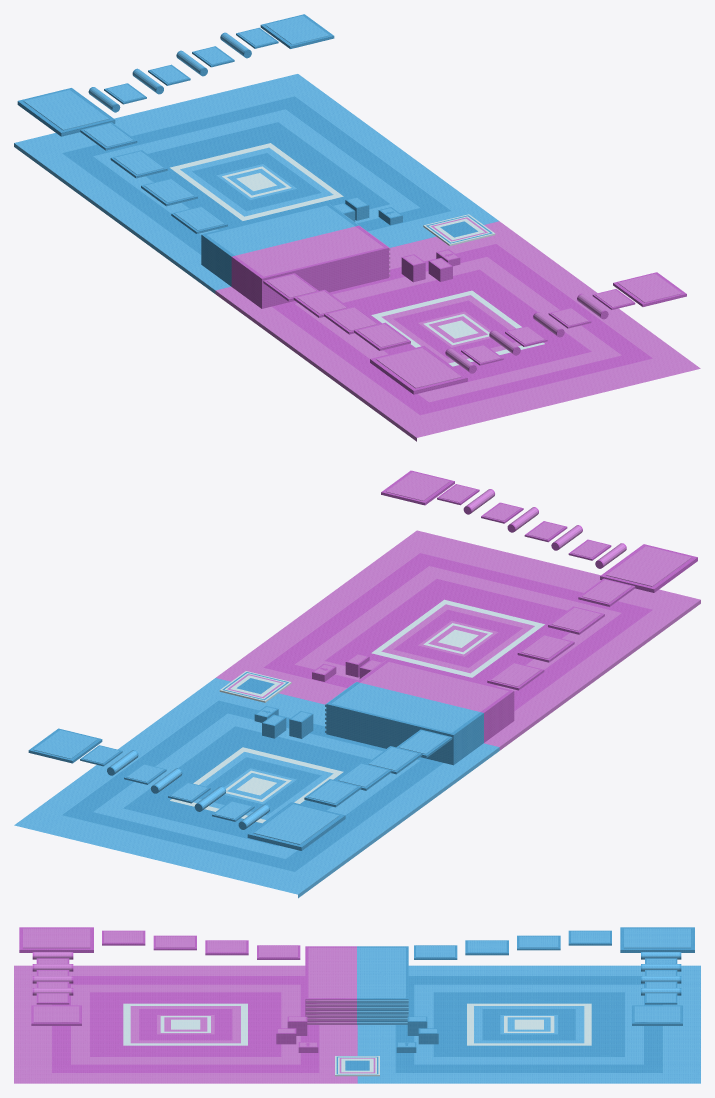
The model's file is Location_Ground.fbx.
3 views of the same model, one above another, from view 1: azimuth 30°, elevation 25°; view 2: azimuth 150°, elevation 25°; view 3: azimuth 270°, elevation 25° (orthographic). The views are drawn at different scales.
Parts seen in each view (by area): view 1: Cube.001, Cube.096, Cube.005, Cube.073, Cube.099, Cube.012, Cube.103, Cube.013, Cube.104, Cylinder, Cylinder.003, Cube.002 (+8 smaller); view 2: Cube.096, Cube.001, Cube.005, Cube.099, Cube.073, Cube.103, Cube.012, Cube.013, Cube.104, Cylinder, Cylinder.003, Cube.002 (+8 smaller); view 3: Cube.096, Cube.001, Cube.005, Cube.003, Cube.073, Cube.099, Cylinder.003, Cylinder, Cube.013, Cube.104, Cube.103, Cube.012 (+13 smaller).
Part boxes in pixels (bbox=[...]): Cube.001: bbox=[215, 221, 700, 441]; Cube.096: bbox=[14, 74, 498, 293]; Cube.005: bbox=[201, 203, 388, 308]; Cube.073: bbox=[370, 346, 467, 394]; Cube.099: bbox=[17, 88, 115, 136]; Cube.012: bbox=[104, 27, 278, 104]; Cube.103: bbox=[461, 289, 635, 365]; Cube.013: bbox=[260, 14, 334, 48]; Cube.104: bbox=[613, 272, 686, 306]; Cylinder: bbox=[88, 32, 251, 112]; Cylinder.003: bbox=[445, 293, 608, 373]; Cube.002: bbox=[423, 214, 495, 245]; Cube.096: bbox=[14, 678, 499, 898]; Cube.001: bbox=[216, 530, 700, 750]; Cube.005: bbox=[326, 660, 514, 765]; Cube.099: bbox=[247, 802, 345, 850]; Cube.073: bbox=[600, 544, 697, 592]; Cube.103: bbox=[437, 484, 611, 560]; Cube.012: bbox=[80, 745, 254, 821]; Cube.013: bbox=[28, 728, 102, 763]; Cube.104: bbox=[381, 470, 454, 505]; Cylinder: bbox=[107, 750, 269, 829]; Cylinder.003: bbox=[463, 489, 626, 568]; Cube.002: bbox=[219, 671, 291, 702]; Cube.096: bbox=[357, 965, 700, 1083]; Cube.001: bbox=[14, 965, 357, 1083]; Cube.005: bbox=[305, 946, 408, 1024]; Cube.003: bbox=[305, 1000, 408, 1024]; Cube.073: bbox=[19, 927, 93, 952]; Cube.099: bbox=[620, 927, 694, 952]; Cylinder.003: bbox=[32, 952, 73, 995]; Cylinder: bbox=[641, 952, 681, 995]; Cube.013: bbox=[632, 1005, 682, 1025]; Cube.104: bbox=[31, 1005, 81, 1025]; Cube.103: bbox=[36, 958, 69, 1004]; Cube.012: bbox=[645, 958, 677, 1004].
Bounding box in the file's own units: 15180 × 4135 × 37294.
5 materials, 5 textured.
